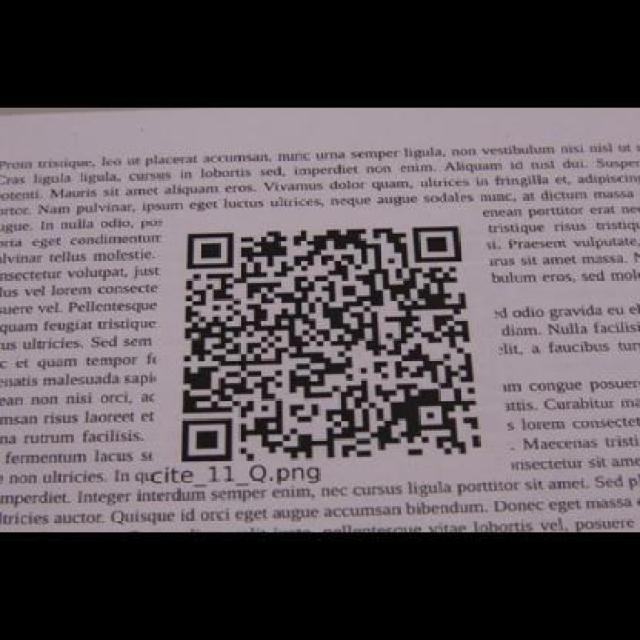QRCode: (173, 217, 489, 462)
